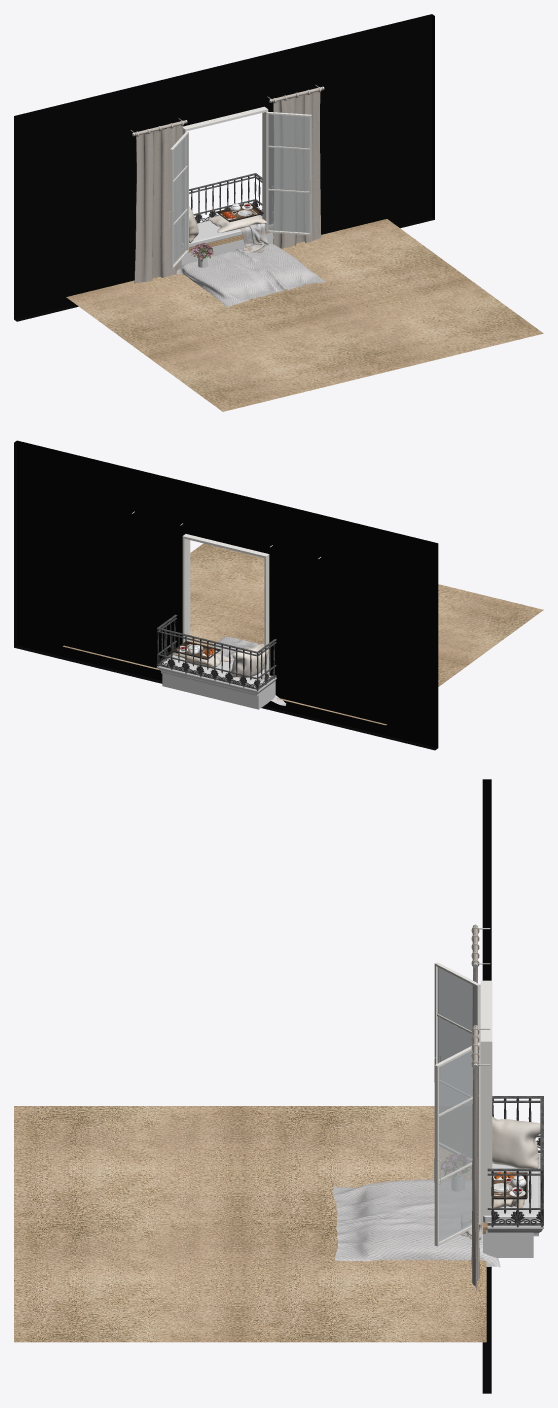
The model's file is CozyNook.glb.
3 views of the same model, one above another, from view 1: azimuth 30°, elevation 25°; view 2: azimuth 150°, elevation 25°; view 3: azimuth 270°, elevation 25° (orthographic). The views are drawn at different scales.
Parts seen in each view (by area): view 1: Plane.001, Plane, curtains, window, balcony, blanket, pillow.001; view 2: Plane.001, Plane, balcony, window, pillow, tray, pillow.001; view 3: Plane, balcony, window, Plane.001, curtains, pillow.
Part boxes in pixels (<box>): Plane.001: <box>14,14,434,321</box>; Plane: <box>66,219,543,411</box>; curtains: <box>130,85,324,283</box>; window: <box>169,106,311,269</box>; balcony: <box>176,173,325,307</box>; blanket: <box>239,223,268,253</box>; pillow.001: <box>209,215,266,232</box>; Plane.001: <box>14,440,438,750</box>; Plane: <box>63,543,543,725</box>; balcony: <box>156,614,286,709</box>; window: <box>182,534,269,672</box>; pillow: <box>230,643,269,677</box>; tray: <box>173,641,220,659</box>; pillow.001: <box>172,653,233,667</box>; Plane: <box>14,1106,486,1342</box>; balcony: <box>333,1096,543,1267</box>; window: <box>434,962,492,1246</box>; Plane.001: <box>482,779,491,1393</box>; curtains: <box>471,924,490,1291</box>; pillow: <box>492,1116,540,1168</box>.
Size of the model in its own units: 7.59 by 3.53 by 5.53.
Materials: 33 (29 with a texture image).
